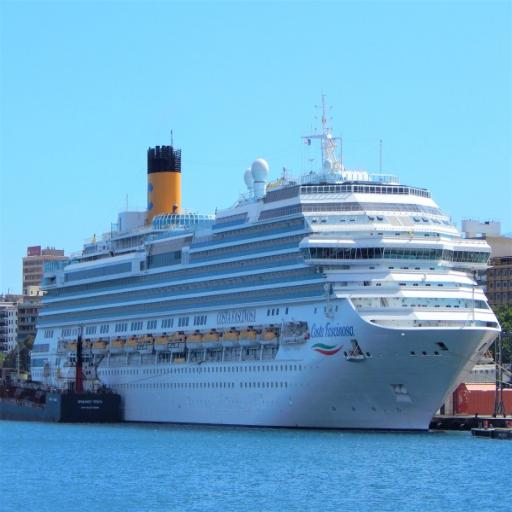cruises: (29, 97, 502, 443)
